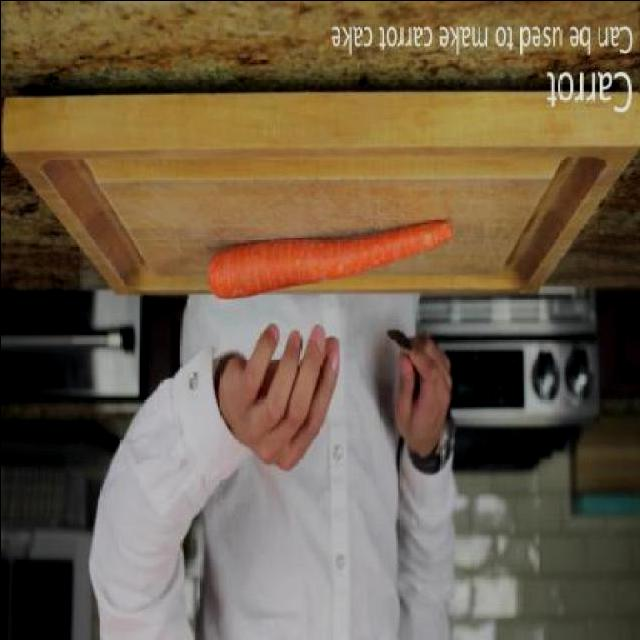carrot: (200, 219, 457, 308)
